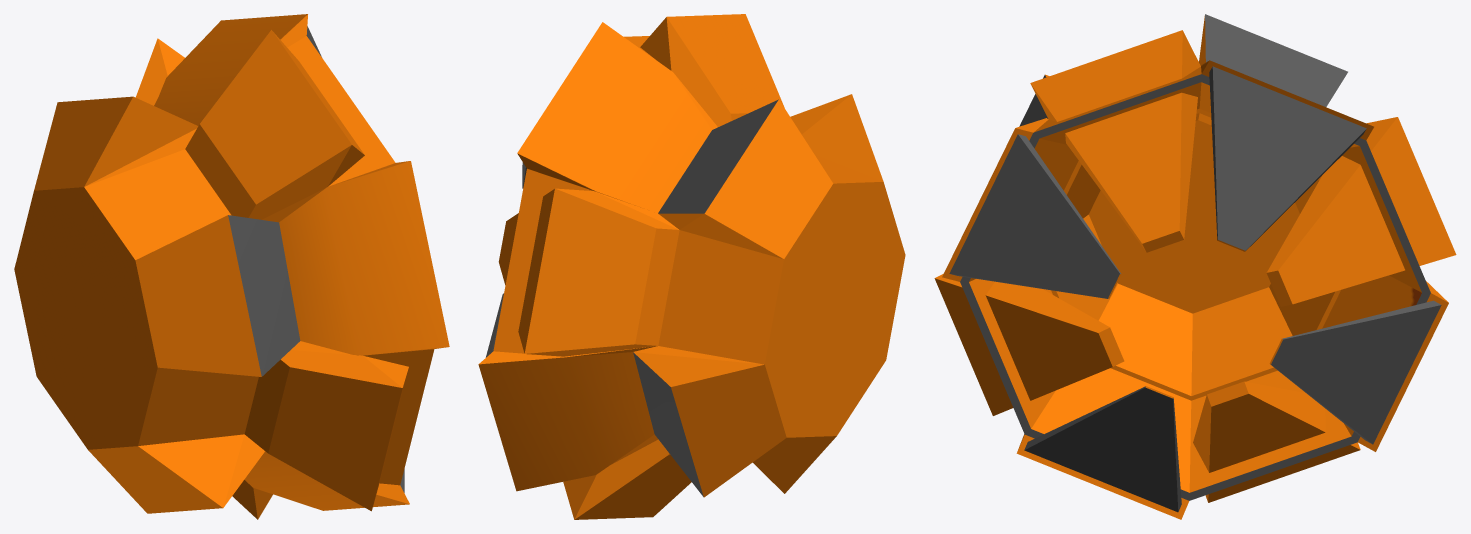
File: Moteur_4.FBX
3 views of the same model, side by side, from view 1: azimuth 30°, elevation 25°; view 2: azimuth 150°, elevation 25°; view 3: azimuth 270°, elevation 25° (orthographic). The views are drawn at different scales.
Visible parts, largest first — view 1: Cone013; view 2: Cone013; view 3: Cone013.
Boxes of the visible parts, x1,y1,x2,y2 form: Cone013: (14,14,449,519); Cone013: (478,14,905,519); Cone013: (934,14,1456,519).
Bounding box in the file's own units: 21.97 × 35.88 × 35.88.
